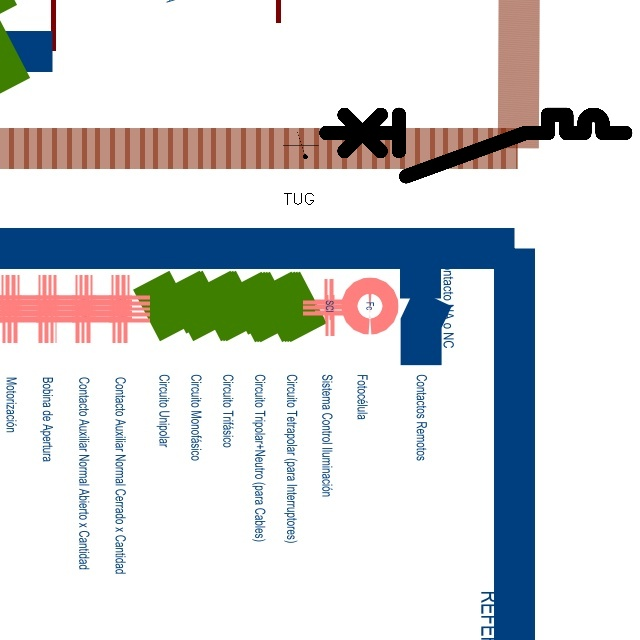interruptor_termomagnetico: (318, 107, 632, 184)
